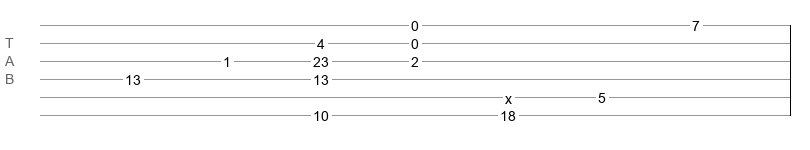0: (411, 36, 419, 46), (411, 18, 419, 28)
1: (223, 54, 231, 64)
10: (313, 108, 329, 118)
13: (125, 72, 141, 82), (313, 72, 329, 82)
18: (500, 108, 516, 118)
2: (411, 54, 419, 64)
23: (313, 54, 329, 64)
4: (317, 36, 325, 46)
5: (598, 90, 606, 100)
7: (692, 18, 700, 28)
x: (505, 91, 512, 99)
